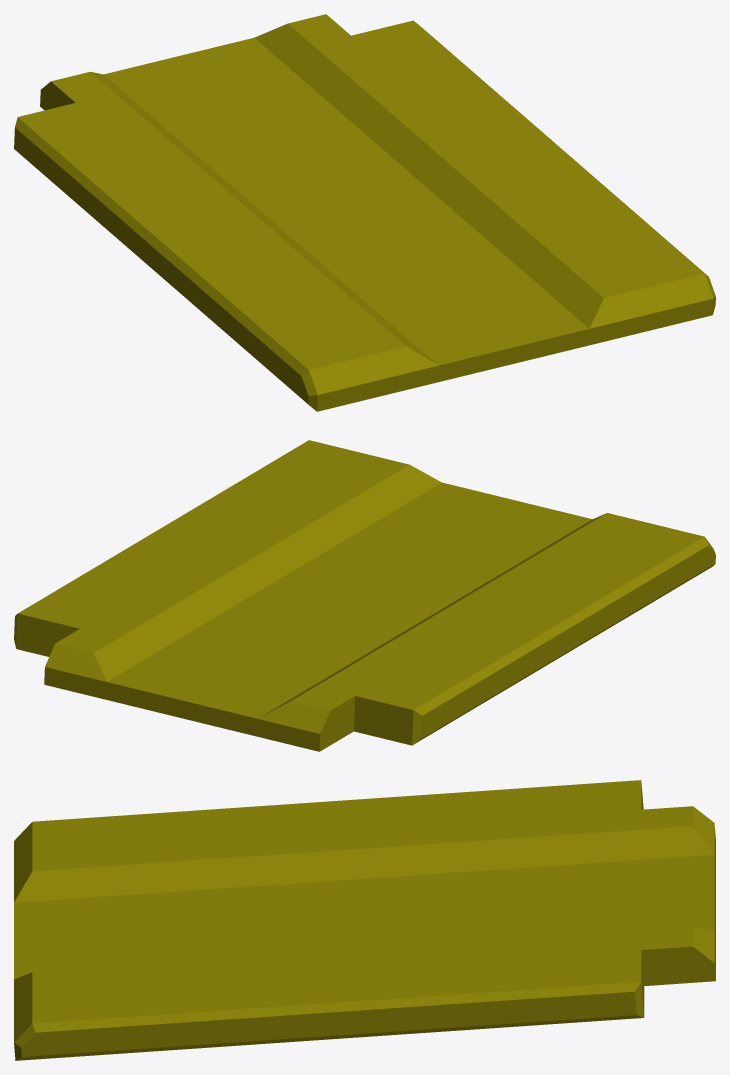
File: mesh_DumpsterLidR_v2.fbx
The picture shows the model from 3 angles, top to bottom: view 1: azimuth 30°, elevation 25°; view 2: azimuth 150°, elevation 25°; view 3: azimuth 270°, elevation 25°; orthographic projection. The views are drawn at different scales.
Parts seen in each view (by area): view 1: mesh_DumpsterLidR_v2_0; view 2: mesh_DumpsterLidR_v2_0; view 3: mesh_DumpsterLidR_v2_0.
Part boxes in pixels (<box>): mesh_DumpsterLidR_v2_0: <box>14,14,715,411</box>; mesh_DumpsterLidR_v2_0: <box>14,440,715,751</box>; mesh_DumpsterLidR_v2_0: <box>14,780,715,1060</box>.
Size of the model in its own units: 79.45 by 14.72 by 113.
